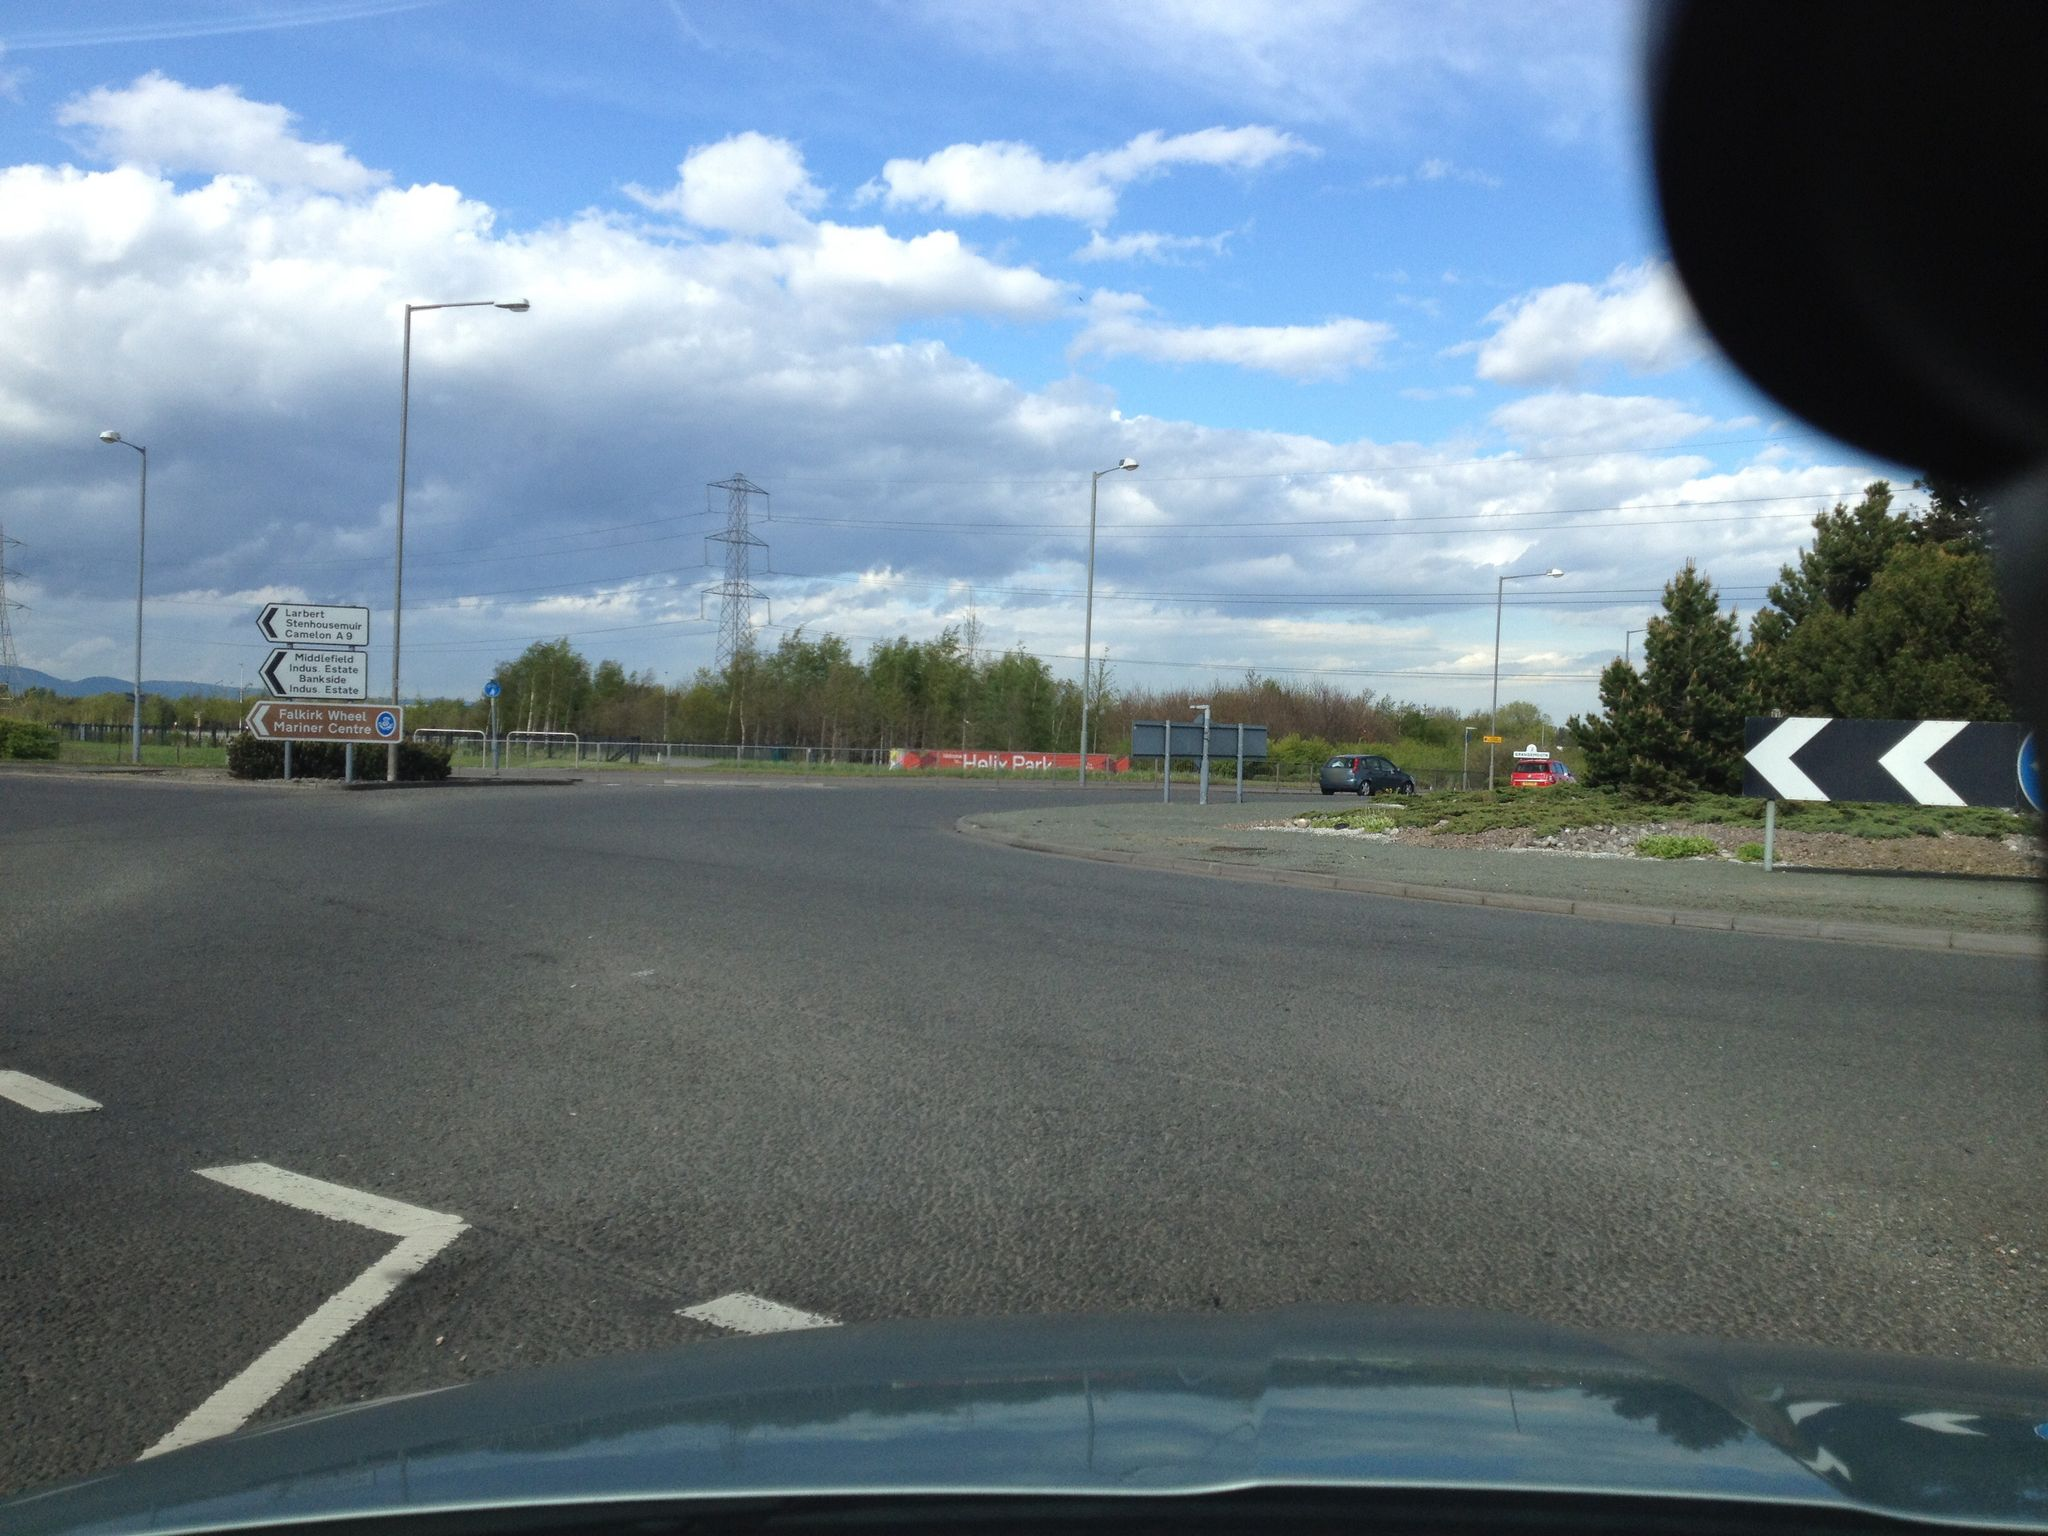car: (1317, 753, 1414, 795), (1509, 758, 1572, 786)
